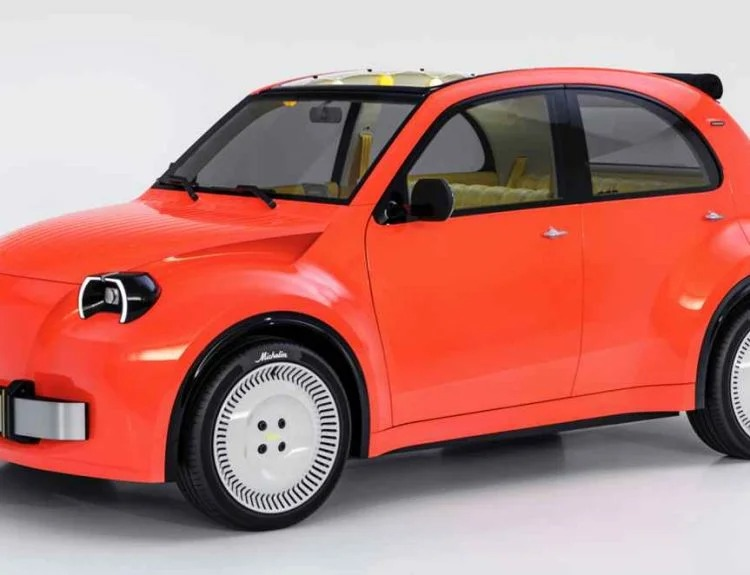car: (12, 59, 750, 525)
